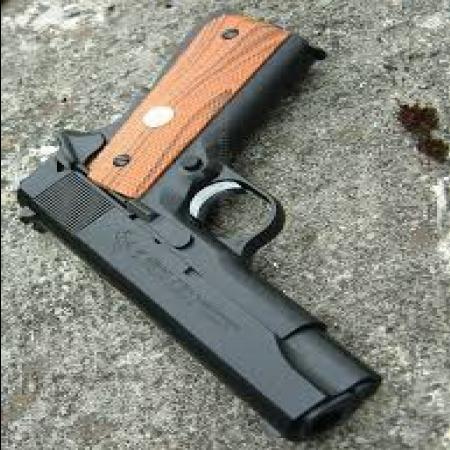Pistol: (14, 10, 382, 432)
